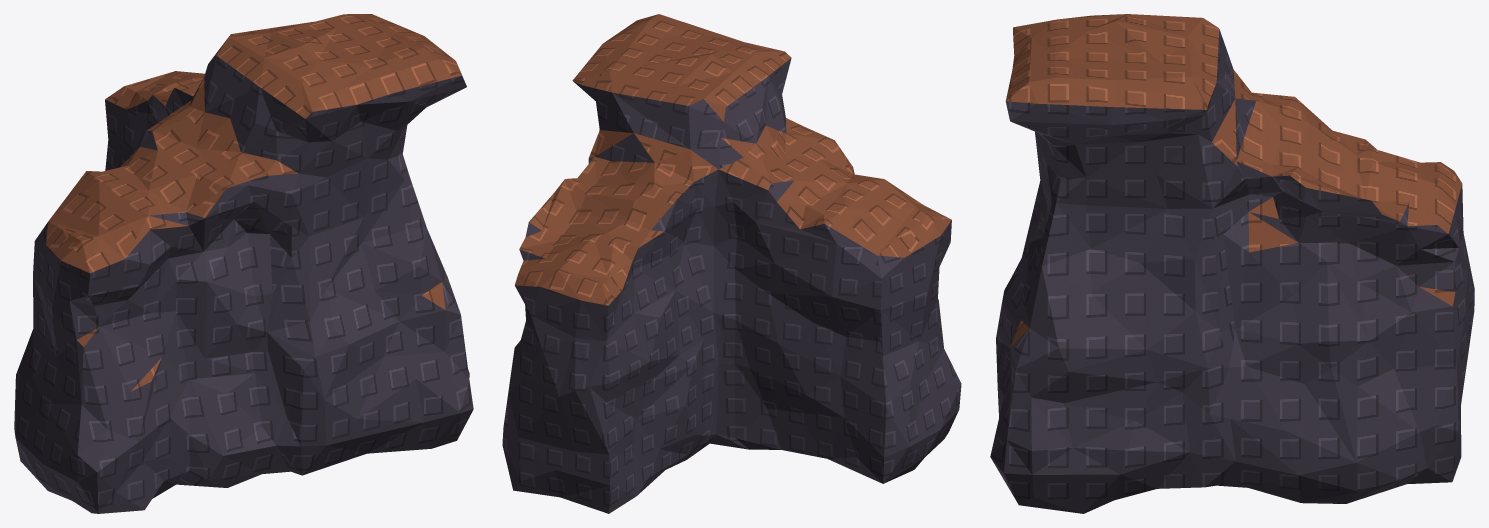
The model's file is BasaltCornerRock.glb.
3 renders of one model, left to right at view 1: azimuth 30°, elevation 25°; view 2: azimuth 150°, elevation 25°; view 3: azimuth 270°, elevation 25°, orthographic. The views are drawn at different scales.
Visible parts, largest first — view 1: BasaltCornerRock_Rock, BasaltCornerRock_Top; view 2: BasaltCornerRock_Rock, BasaltCornerRock_Top; view 3: BasaltCornerRock_Rock, BasaltCornerRock_Top.
Part boxes in pixels (x1,y1,x2,y2): BasaltCornerRock_Rock: (14,55,473,513); BasaltCornerRock_Top: (46,14,461,391); BasaltCornerRock_Rock: (502,58,961,513); BasaltCornerRock_Top: (515,14,951,345); BasaltCornerRock_Rock: (990,29,1474,513); BasaltCornerRock_Top: (1006,14,1462,346).
Size of the model in its own units: 12.58 by 12.56 by 12.51.
Materials: 2 (2 with a texture image).
